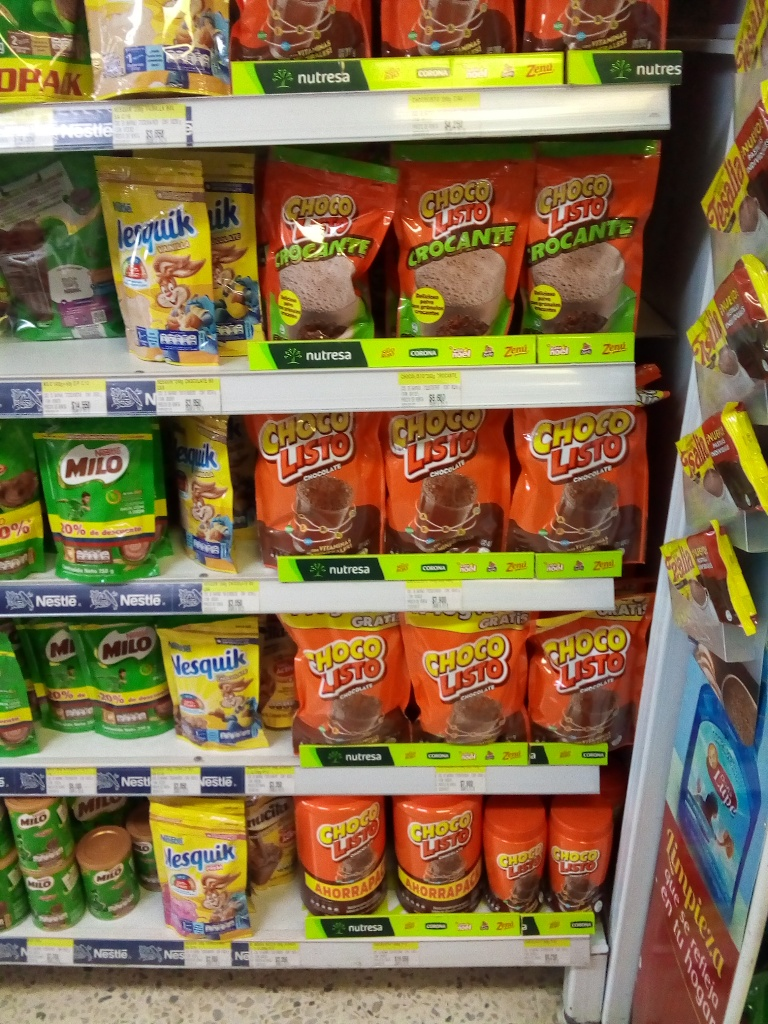COL0170102DYP25000: (262, 153, 394, 344)
COL0170103TRR00100: (297, 793, 392, 910)
COL0170103TRR30000: (477, 802, 549, 915)
COL0170203DYP50000: (0, 154, 122, 351)
COL0170203LAT20000: (7, 800, 67, 865)
COL0170303DYP20000: (152, 618, 271, 756)
COL0170305DYP20000: (151, 802, 262, 938)
COL0170306DYP20000: (163, 421, 256, 578)
